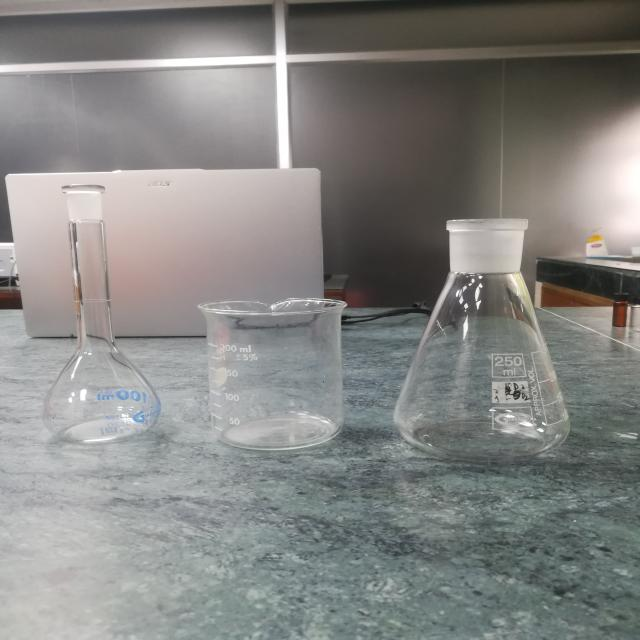Beaker: (198, 283, 366, 458)
Conical_Flask: (383, 189, 597, 480)
Volumetric_Flask: (26, 158, 182, 461)
